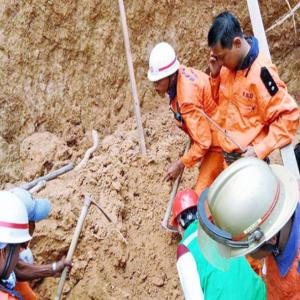none: (207, 12, 243, 70)
red: (173, 188, 201, 239)
white: (210, 157, 287, 264), (1, 191, 31, 282), (148, 43, 179, 96)
